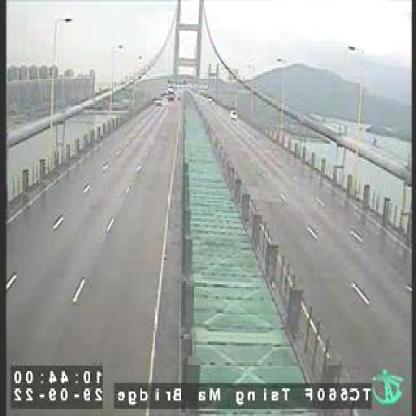Car: (230, 106, 239, 121)
